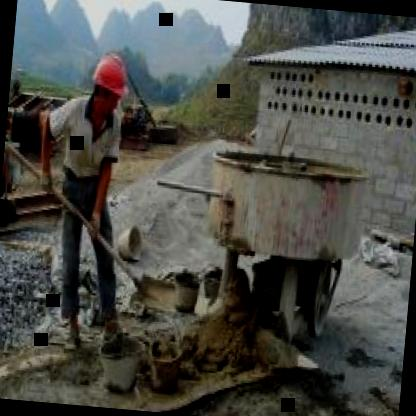helmet: (86, 50, 130, 128)
